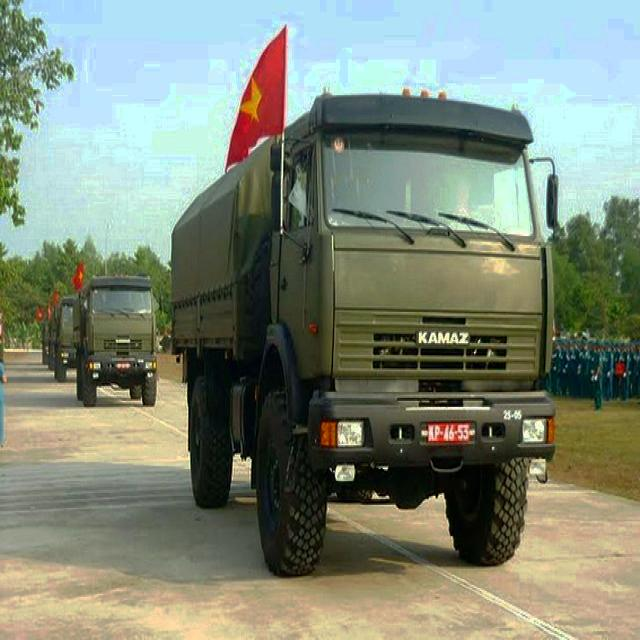license_plate: (429, 423, 472, 444)
